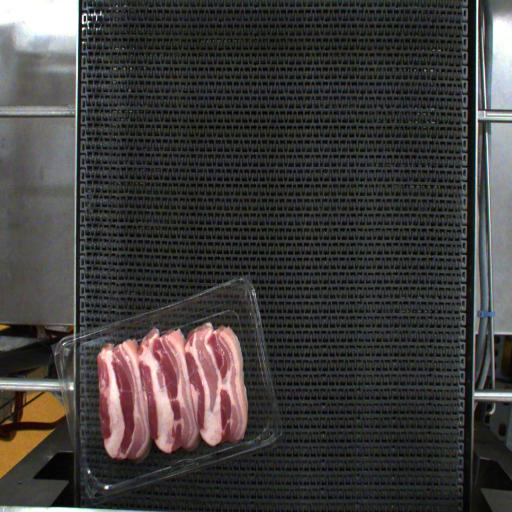wrinkle: (183, 353, 210, 383)
